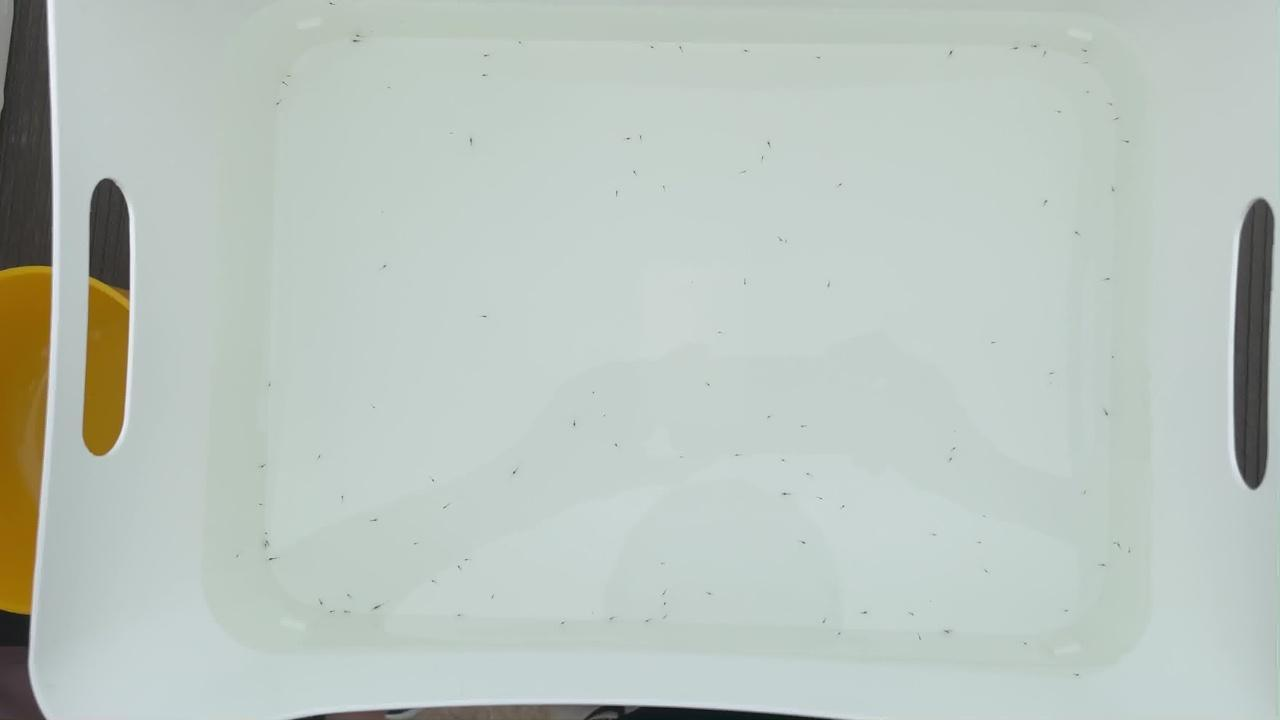shrimp: (946, 51, 958, 59), (1009, 46, 1021, 54), (1027, 44, 1039, 52), (1040, 52, 1052, 60), (1080, 47, 1092, 55), (1081, 60, 1093, 68), (1085, 89, 1097, 97), (1051, 111, 1063, 119), (1107, 100, 1119, 108), (1111, 115, 1123, 123), (1121, 141, 1133, 149), (1108, 187, 1120, 195), (1071, 231, 1083, 239), (1038, 199, 1050, 207), (1103, 275, 1115, 283), (835, 180, 847, 188), (764, 140, 776, 148), (757, 153, 769, 161), (741, 169, 753, 177), (813, 54, 825, 62), (740, 50, 752, 58), (673, 46, 685, 54), (646, 44, 658, 52), (636, 133, 648, 141), (623, 134, 635, 142), (630, 168, 642, 176), (611, 192, 623, 200), (659, 185, 671, 193), (739, 280, 751, 288), (772, 236, 784, 244), (778, 237, 790, 245), (824, 282, 836, 290), (1107, 354, 1119, 362), (987, 339, 999, 347), (1101, 410, 1113, 418), (1046, 371, 1058, 379), (1079, 490, 1091, 498), (1109, 541, 1121, 549), (1113, 541, 1125, 549), (1123, 547, 1135, 555), (1098, 561, 1110, 569), (1061, 608, 1073, 616), (1070, 673, 1082, 681), (1019, 641, 1031, 649), (981, 569, 993, 577), (973, 540, 985, 548), (979, 513, 991, 521), (944, 458, 956, 466), (947, 446, 959, 454), (838, 503, 850, 511), (929, 531, 941, 539), (942, 628, 954, 636), (914, 635, 926, 643), (907, 612, 919, 620), (858, 610, 870, 618), (832, 631, 844, 639), (816, 621, 828, 629), (798, 539, 810, 547), (780, 491, 792, 499), (815, 496, 827, 504), (802, 471, 814, 479), (776, 456, 788, 464), (798, 424, 810, 432), (761, 413, 773, 421), (732, 451, 744, 459), (702, 379, 714, 387), (715, 328, 727, 336), (704, 592, 716, 600), (660, 615, 672, 623), (640, 618, 652, 626), (661, 600, 673, 608), (659, 590, 671, 598), (657, 560, 669, 568), (607, 615, 619, 623), (558, 619, 570, 627), (485, 595, 497, 603), (452, 613, 464, 621), (427, 577, 439, 585), (453, 565, 465, 573), (461, 557, 473, 565), (409, 541, 421, 549), (371, 603, 383, 611), (343, 591, 355, 599), (341, 609, 353, 617), (326, 607, 338, 615), (315, 599, 327, 607), (266, 556, 278, 564), (260, 544, 272, 552), (260, 540, 272, 548), (262, 530, 274, 538), (231, 552, 243, 560), (255, 502, 267, 510), (257, 461, 269, 469), (264, 382, 276, 390), (314, 453, 326, 461), (336, 493, 348, 501), (368, 517, 380, 525), (439, 503, 451, 511), (427, 477, 439, 485), (368, 402, 380, 410), (510, 470, 522, 478), (568, 422, 580, 430), (611, 441, 623, 449), (677, 453, 689, 461), (599, 414, 611, 422), (587, 389, 599, 397), (480, 313, 492, 321), (380, 263, 392, 271), (465, 137, 477, 145), (443, 131, 455, 139), (273, 102, 285, 110), (279, 81, 291, 89), (282, 74, 294, 82), (325, 0, 337, 8), (348, 39, 360, 47), (351, 30, 363, 38), (516, 42, 528, 50), (482, 52, 494, 60), (479, 72, 491, 80)
